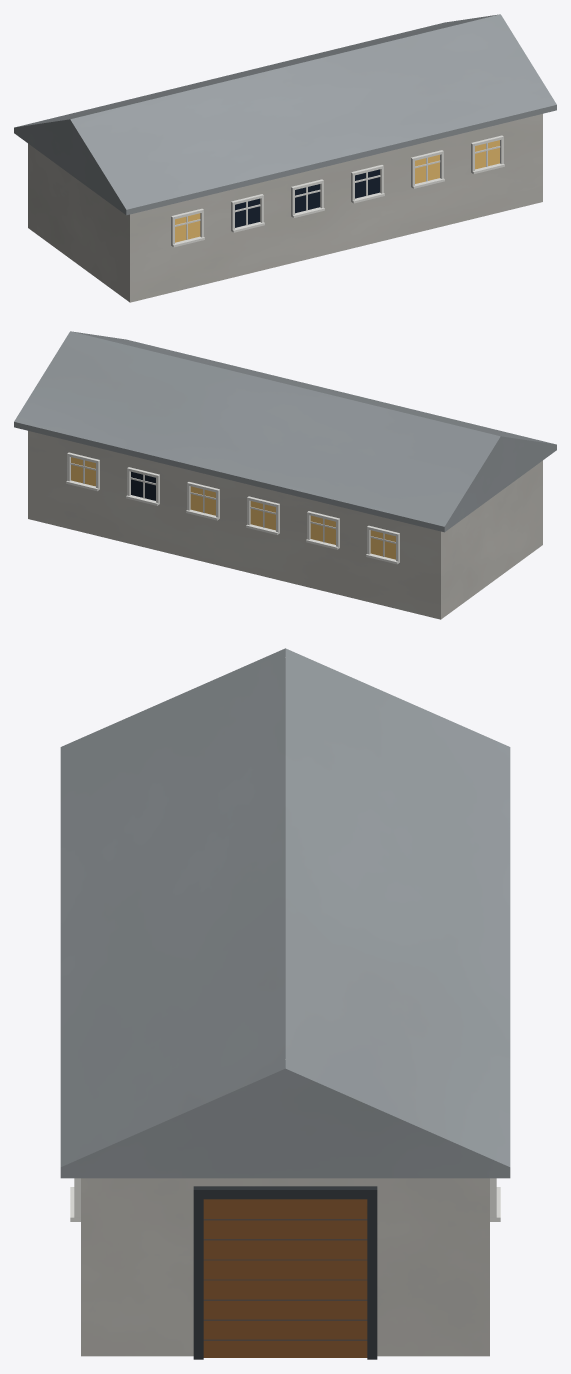
File: pv_kravin.glb
3 views of the same model, one above another, from view 1: azimuth 30°, elevation 25°; view 2: azimuth 150°, elevation 25°; view 3: azimuth 270°, elevation 25° (orthographic). The views are drawn at different scales.
Parts seen in each view (by area): view 1: dum, noc; view 2: dum, noc; view 3: dum.
Boxes of the visible parts, x1,y1,x2,y2 form: dum: (14,14,556,302); noc: (175,140,499,242); dum: (14,331,556,619); noc: (71,457,395,559); dum: (60,648,510,1359).
Bounding box in the file's own units: 14.56 × 4.79 × 6.58.
Materials: 1 (1 with a texture image).
